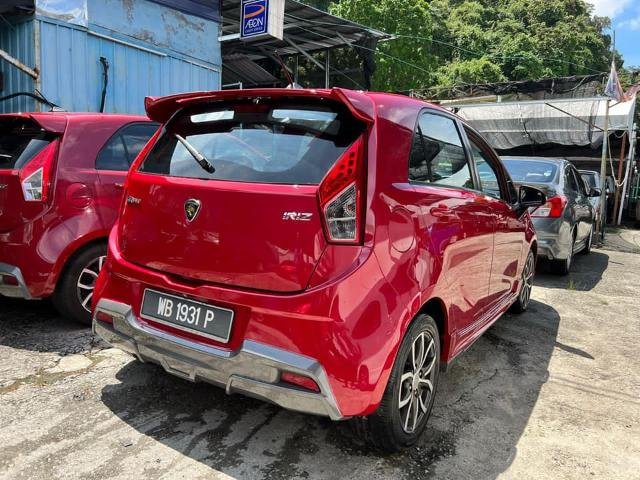License_Plate: (144, 285, 230, 350)
car: (105, 78, 545, 450)
